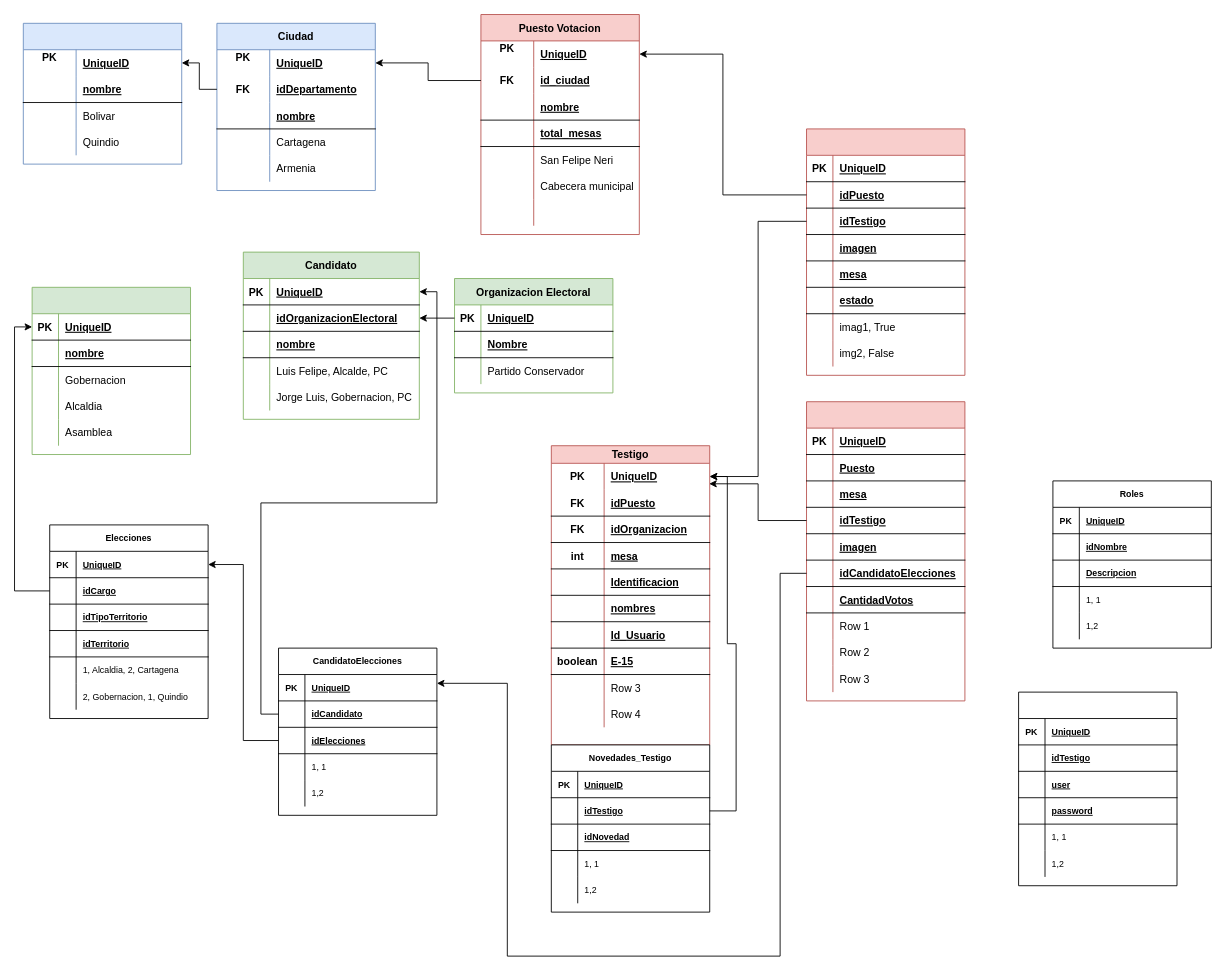
Some shapes in this 1226 by 971 pixel diagram are drawn without their labels. Here are the shapes that lost their labels. From the top down, the box of each, then its label:
(22, 22, 182, 164): Departamento
(806, 128, 965, 375): E-14
(31, 286, 191, 455): Cargos
(806, 401, 965, 701): Resultados
(1018, 691, 1177, 886): Usuarios
